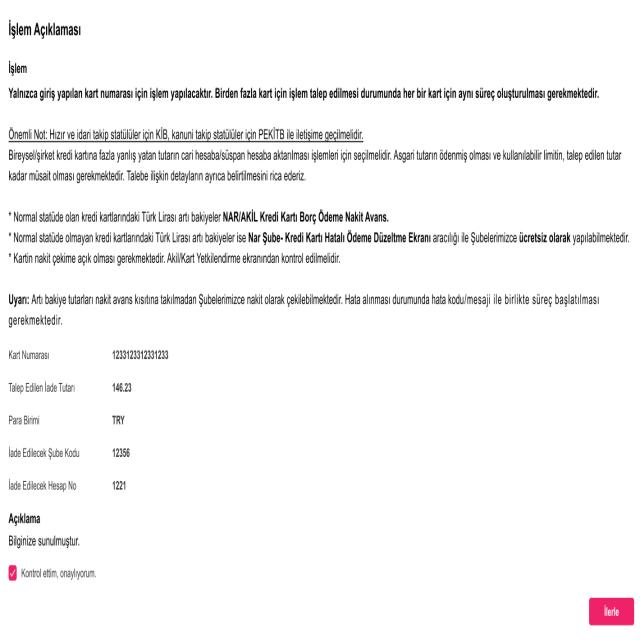QLabel: (7, 148, 623, 186), (7, 85, 601, 104), (32, 293, 600, 309), (8, 126, 365, 144), (8, 252, 341, 266), (7, 230, 246, 246), (8, 208, 221, 225), (248, 231, 432, 246), (222, 210, 390, 224), (8, 18, 82, 40), (8, 533, 81, 549), (8, 478, 77, 494), (9, 380, 76, 396), (433, 232, 518, 244), (8, 446, 80, 460), (572, 232, 630, 246), (112, 348, 169, 362), (8, 314, 62, 328), (519, 232, 571, 245), (7, 348, 50, 362), (8, 412, 40, 428), (8, 511, 42, 526), (7, 291, 30, 308), (8, 59, 28, 77), (111, 380, 132, 394), (111, 446, 131, 459), (603, 604, 620, 618), (111, 412, 126, 427), (112, 480, 126, 491)
VBtn: (588, 596, 635, 628)
VCheckbox: (7, 563, 97, 583)
